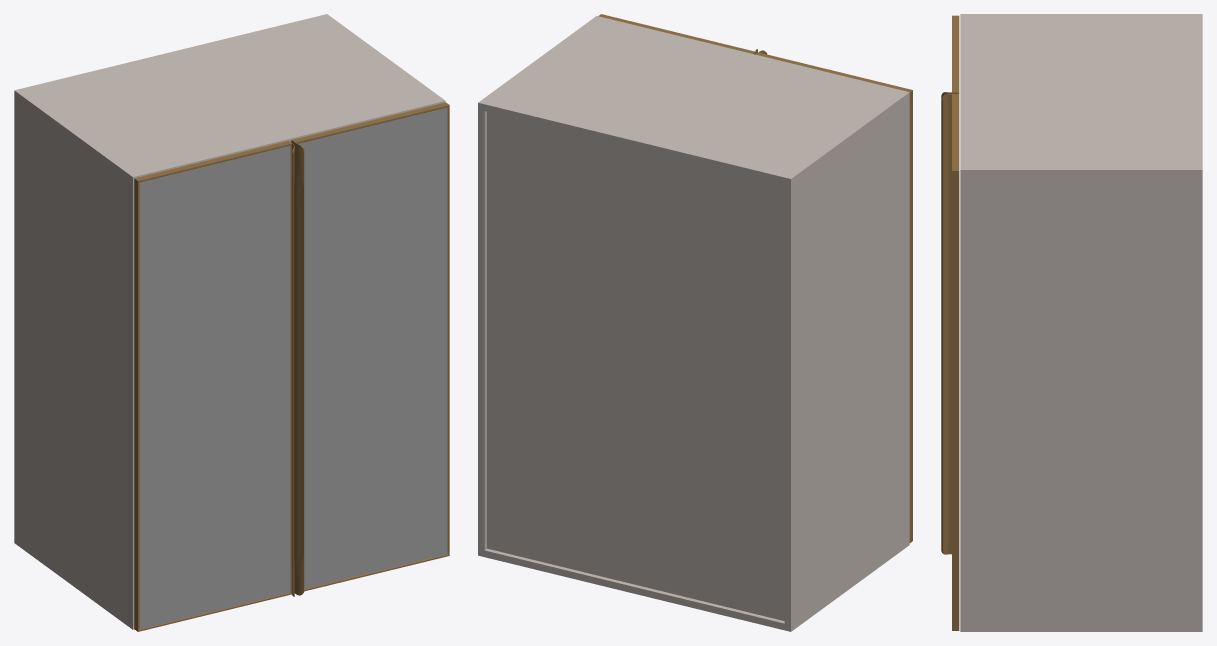
3 renders of one model, left to right at view 1: azimuth 30°, elevation 25°; view 2: azimuth 150°, elevation 25°; view 3: azimuth 270°, elevation 25°, orthographic. The views are drawn at different scales.
Visible parts, largest first — view 1: Object_1.002; view 2: Object_1.002; view 3: Object_1.002.
Part boxes in pixels (box(x1,y1,x2,y2)): Object_1.002: box(14, 14, 449, 631); Object_1.002: box(478, 14, 912, 631); Object_1.002: box(941, 14, 1202, 631).
Bounding box in the file's own units: 0.868 × 1.2 × 0.6149.
3 materials, 2 textured.
